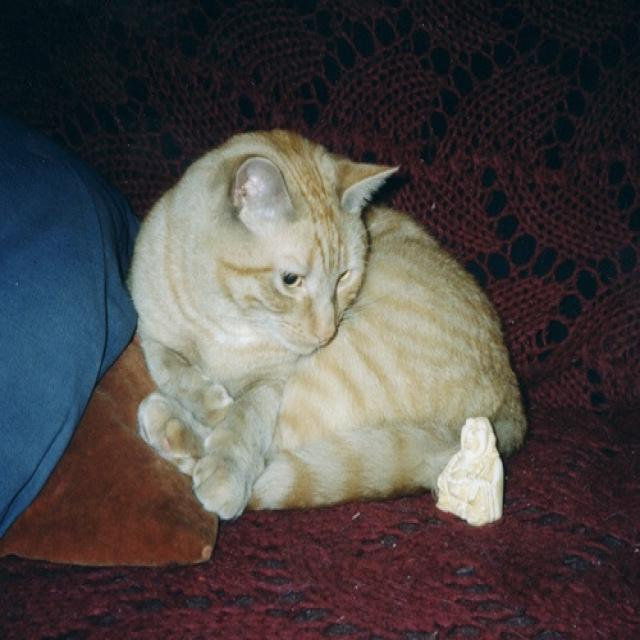cat: (126, 127, 528, 518)
